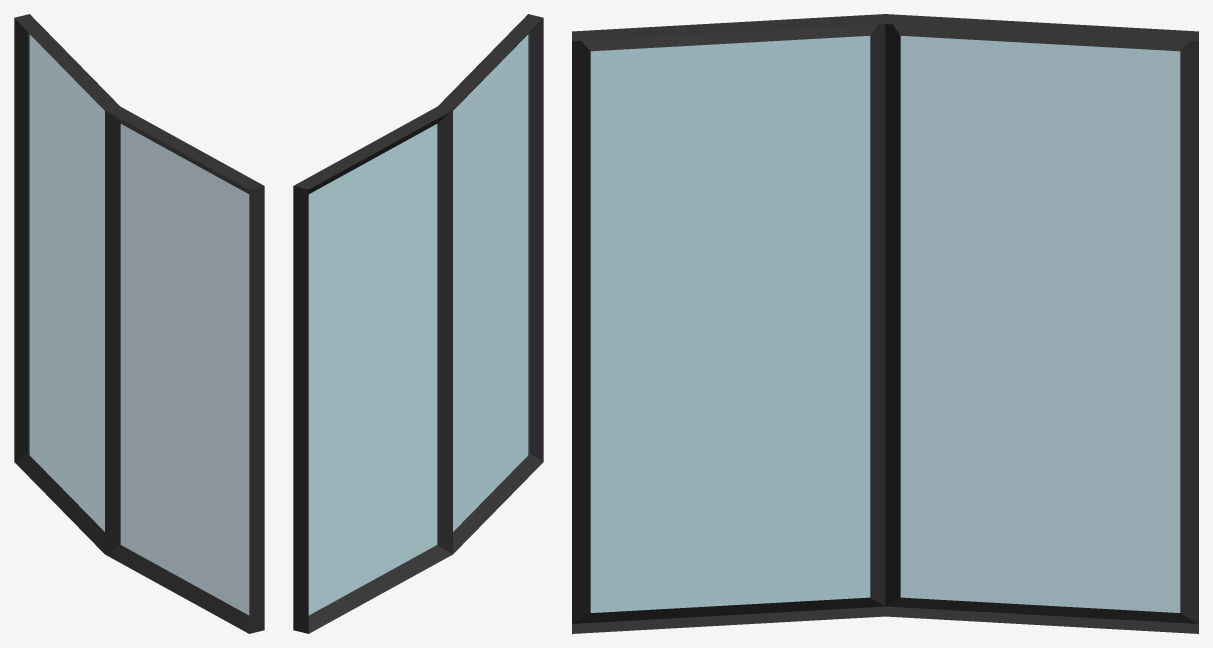
Rendered from ventanalA.DAE.
The picture shows the model from 3 angles, left to right: view 1: azimuth 30°, elevation 25°; view 2: azimuth 150°, elevation 25°; view 3: azimuth 270°, elevation 25°; orthographic projection. The views are drawn at different scales.
Parts seen in each view (by area): view 1: ventanalA; view 2: ventanalA; view 3: ventanalA.
Boxes of the visible parts, bbox=[...] form: ventanalA: bbox=[14, 14, 264, 633]; ventanalA: bbox=[293, 14, 543, 633]; ventanalA: bbox=[572, 14, 1198, 633].
Bounding box in the file's own units: 0.2683 × 2.59 × 2.7.
